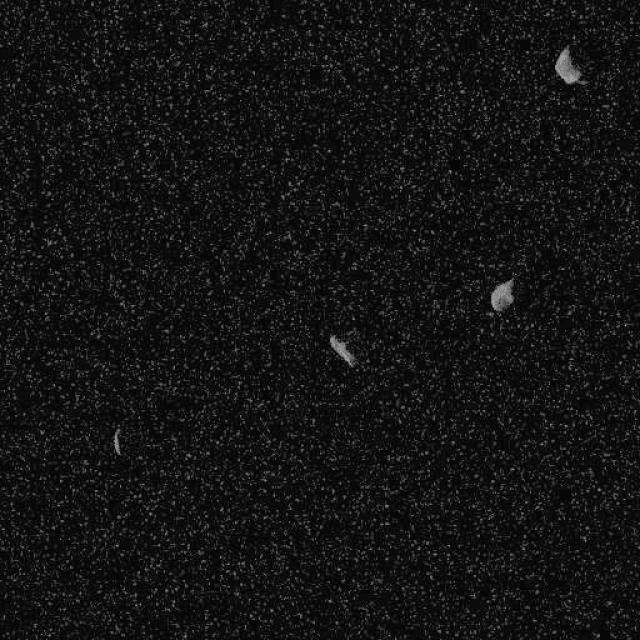D2: (552, 42, 588, 86), (328, 332, 358, 368), (488, 276, 514, 312), (110, 426, 122, 456)
